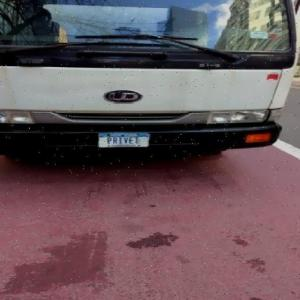Plate: (96, 132, 151, 149)
